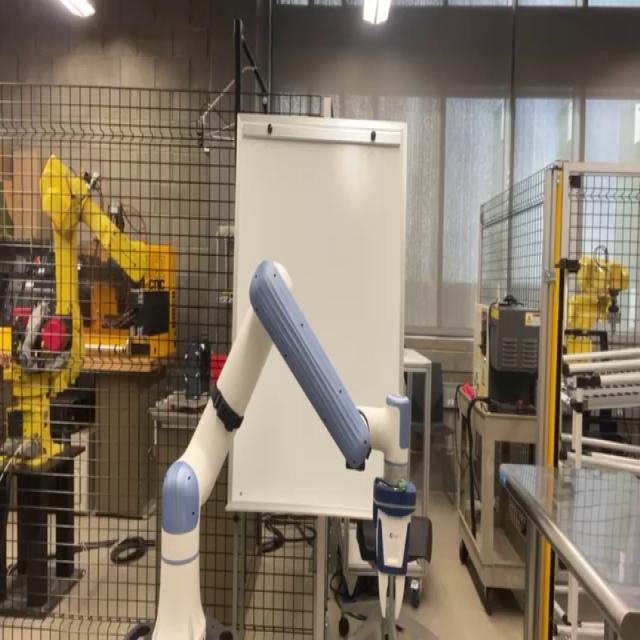robot: (123, 257, 432, 639)
